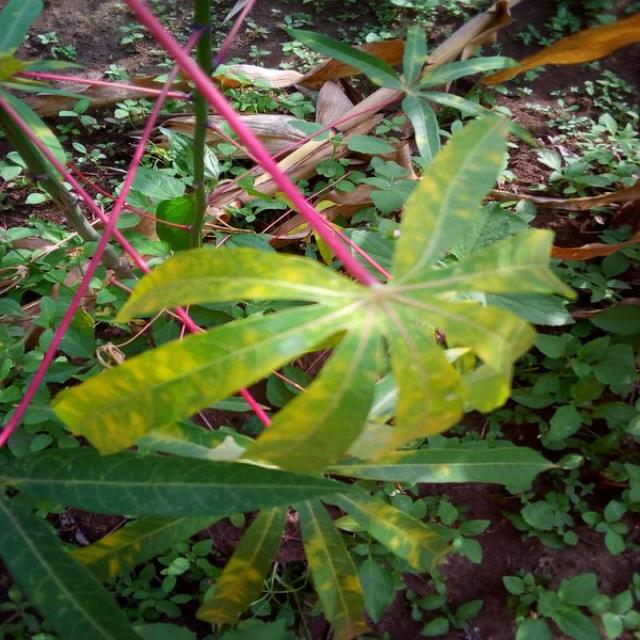cassava leaf: (50, 108, 576, 474)
